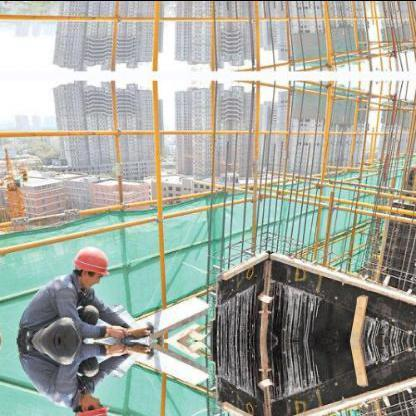Helmet: (69, 242, 112, 290), (68, 387, 112, 413)
